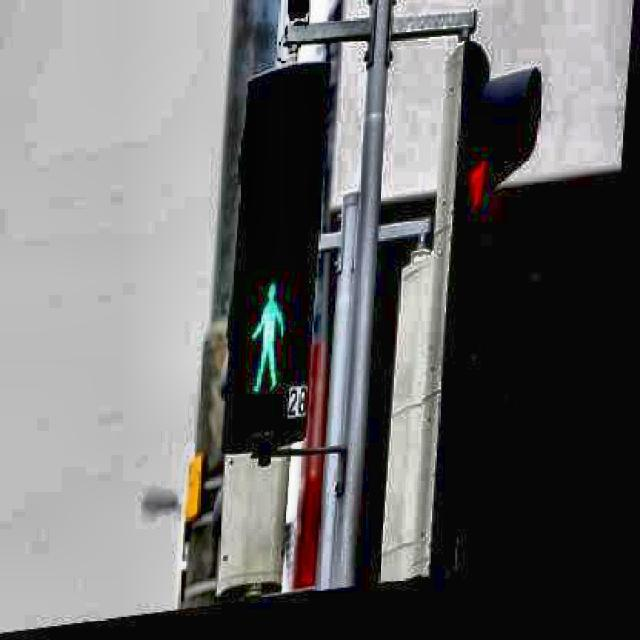semaforo pedestre: (150, 34, 390, 514)
